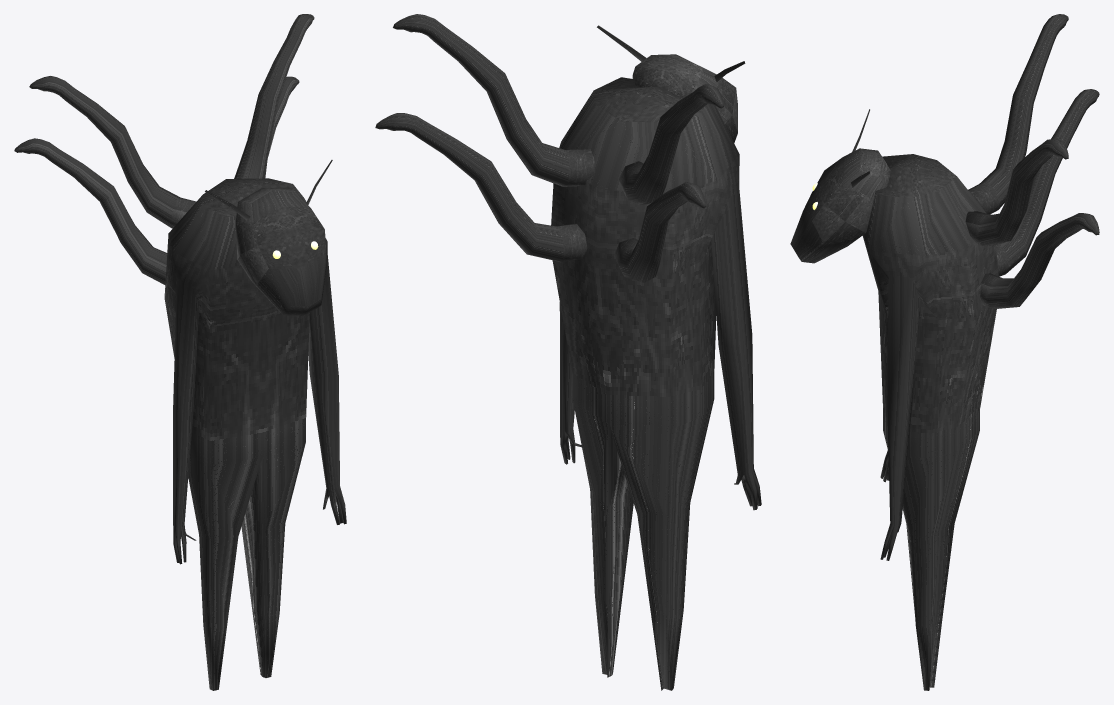
File: enemy.glb
3 renders of one model, left to right at view 1: azimuth 30°, elevation 25°; view 2: azimuth 150°, elevation 25°; view 3: azimuth 270°, elevation 25°, orthographic. The views are drawn at different scales.
Parts seen in each view (by area): view 1: Cube.005; view 2: Cube.005; view 3: Cube.005.
Part boxes in pixels (x1=…): Cube.005: x1=14, y1=14, x2=346, y2=690; Cube.005: x1=375, y1=14, x2=761, y2=690; Cube.005: x1=790, y1=14, x2=1099, y2=690.
Size of the model in its own units: 1.23 by 2.44 by 1.14.
Materials: 2 (1 with a texture image).
